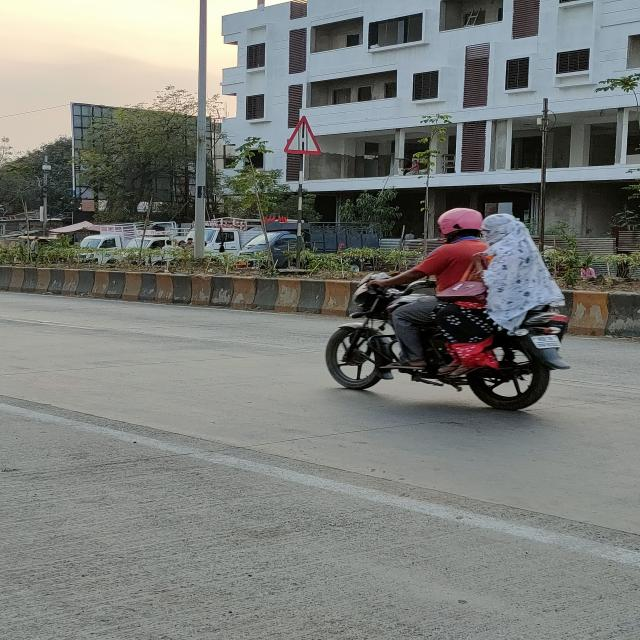GAP_IN_MEDIAN: (281, 114, 328, 154)
